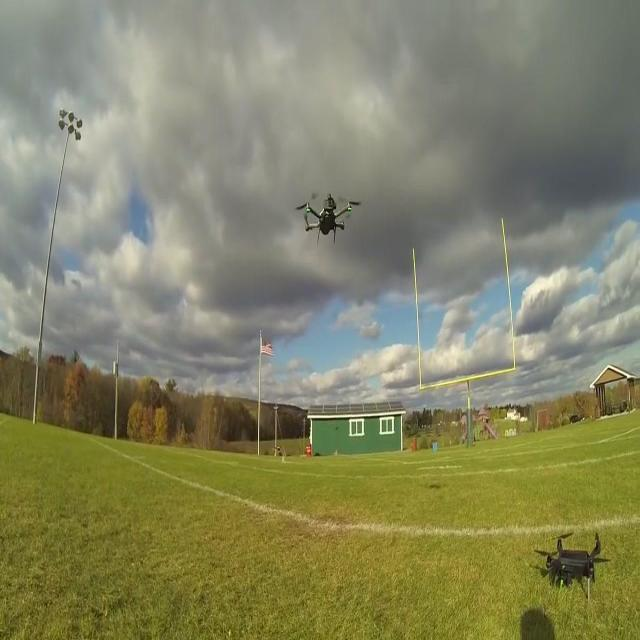drone: (304, 193, 357, 248)
